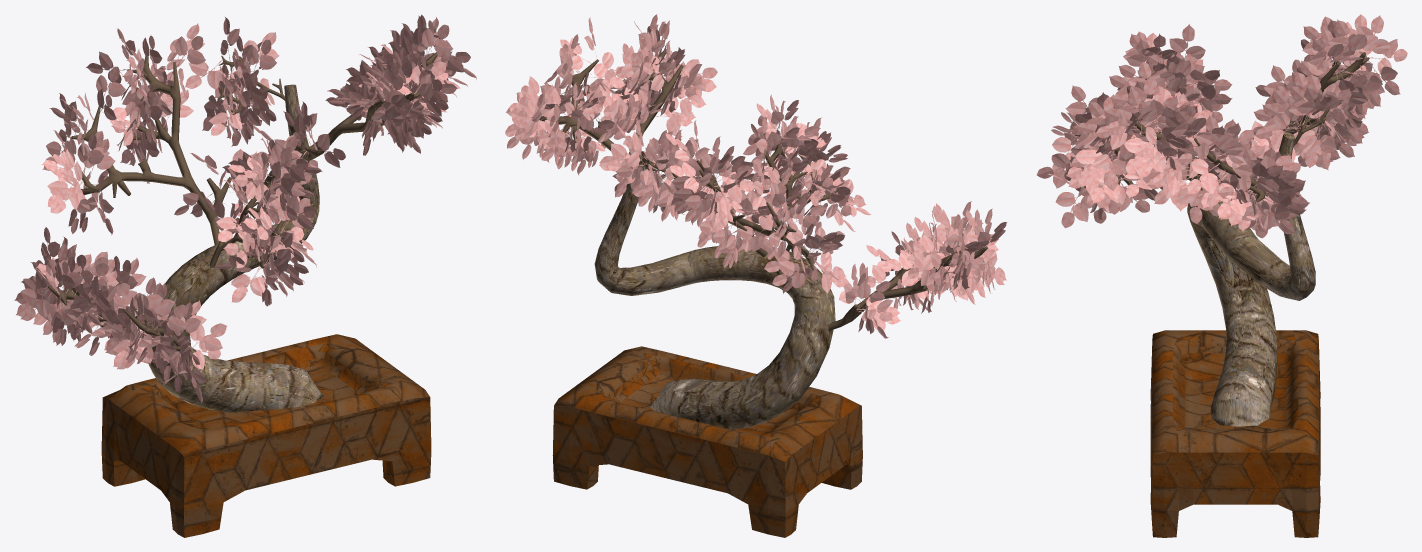
Rendered from bonsai.gltf.
The picture shows the model from 3 angles, left to right: view 1: azimuth 30°, elevation 25°; view 2: azimuth 150°, elevation 25°; view 3: azimuth 270°, elevation 25°; orthographic projection. The views are drawn at different scales.
Visible parts, largest first — view 1: Cube, Trunk, pink-leaf-removebg-preview.431, pink-leaf-removebg-preview.026, pink-leaf-removebg-preview.118, pink-leaf-removebg-preview.230, pink-leaf-removebg-preview.376; view 2: Cube, Trunk; view 3: Cube, Trunk, pink-leaf-removebg-preview.104, pink-leaf-removebg-preview.233, pink-leaf-removebg-preview.103, pink-leaf-removebg-preview.410, pink-leaf-removebg-preview.290, pink-leaf-removebg-preview.399, pink-leaf-removebg-preview.113, pink-leaf-removebg-preview.271, pink-leaf-removebg-preview.330, pink-leaf-removebg-preview.232 (+13 smaller).
Part boxes in pixels (bbox=[...]): Cube: bbox=[101, 334, 431, 537]; Trunk: bbox=[48, 52, 437, 445]; pink-leaf-removebg-preview.431: bbox=[185, 59, 222, 89]; pink-leaf-removebg-preview.026: bbox=[189, 323, 226, 351]; pink-leaf-removebg-preview.118: bbox=[16, 288, 50, 317]; pink-leaf-removebg-preview.230: bbox=[422, 24, 453, 58]; pink-leaf-removebg-preview.376: bbox=[175, 36, 205, 67]; Cube: bbox=[552, 346, 862, 537]; Trunk: bbox=[539, 49, 987, 429]; Cube: bbox=[1150, 330, 1320, 537]; Trunk: bbox=[1075, 52, 1369, 426]; pink-leaf-removebg-preview.104: bbox=[1055, 192, 1088, 228]; pink-leaf-removebg-preview.233: bbox=[1187, 158, 1219, 194]; pink-leaf-removebg-preview.103: bbox=[1036, 153, 1073, 188]; pink-leaf-removebg-preview.410: bbox=[1254, 112, 1300, 149]; pink-leaf-removebg-preview.290: bbox=[1118, 88, 1157, 132]; pink-leaf-removebg-preview.399: bbox=[1304, 125, 1336, 170]; pink-leaf-removebg-preview.113: bbox=[1169, 24, 1205, 59]; pink-leaf-removebg-preview.271: bbox=[1261, 199, 1295, 233]; pink-leaf-removebg-preview.330: bbox=[1328, 19, 1367, 60]; pink-leaf-removebg-preview.232: bbox=[1195, 115, 1233, 160].
Size of the model in its own units: 4.51 by 3.94 by 2.99.
3 materials, 3 textured.
